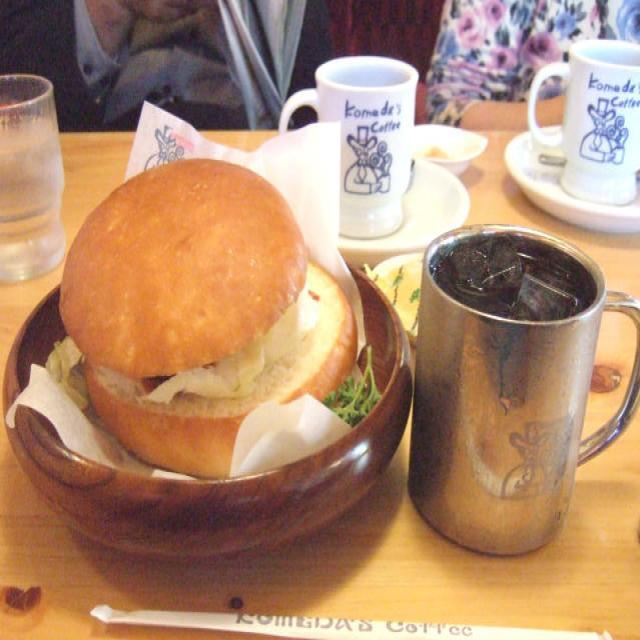Hamburger: (52, 147, 360, 465)
